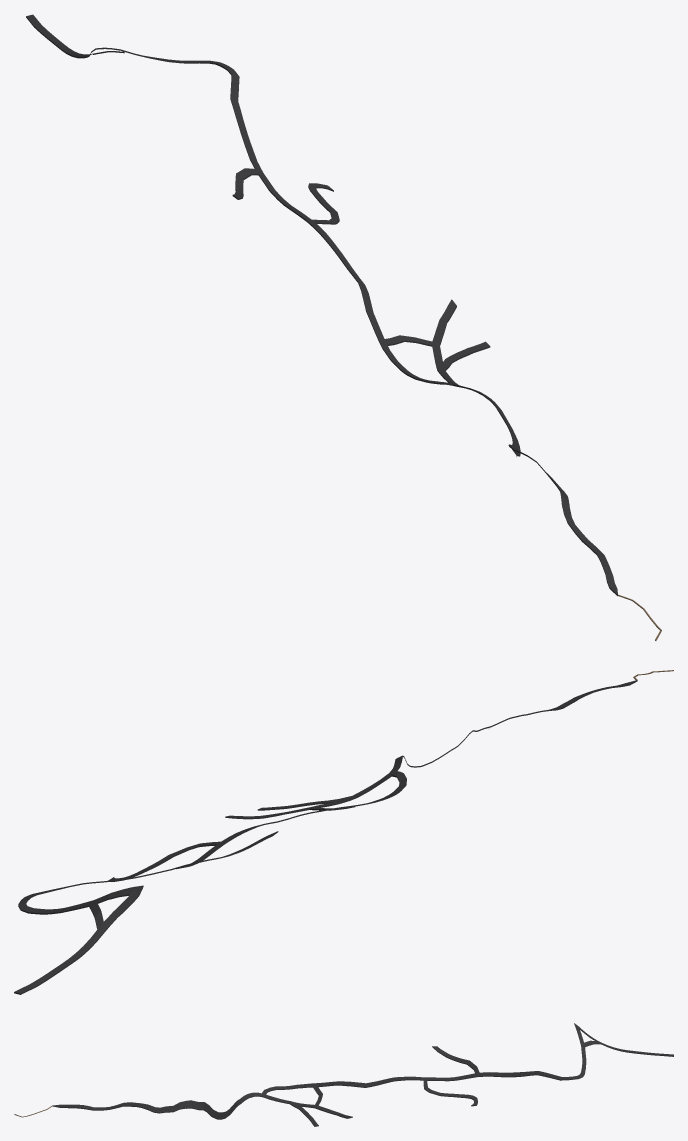
3 renders of one model, top to bottom at view 1: azimuth 30°, elevation 25°; view 2: azimuth 150°, elevation 25°; view 3: azimuth 270°, elevation 25°, orthographic. The views are drawn at different scales.
Size of the model in its own units: 122 by 158 by 1033.
